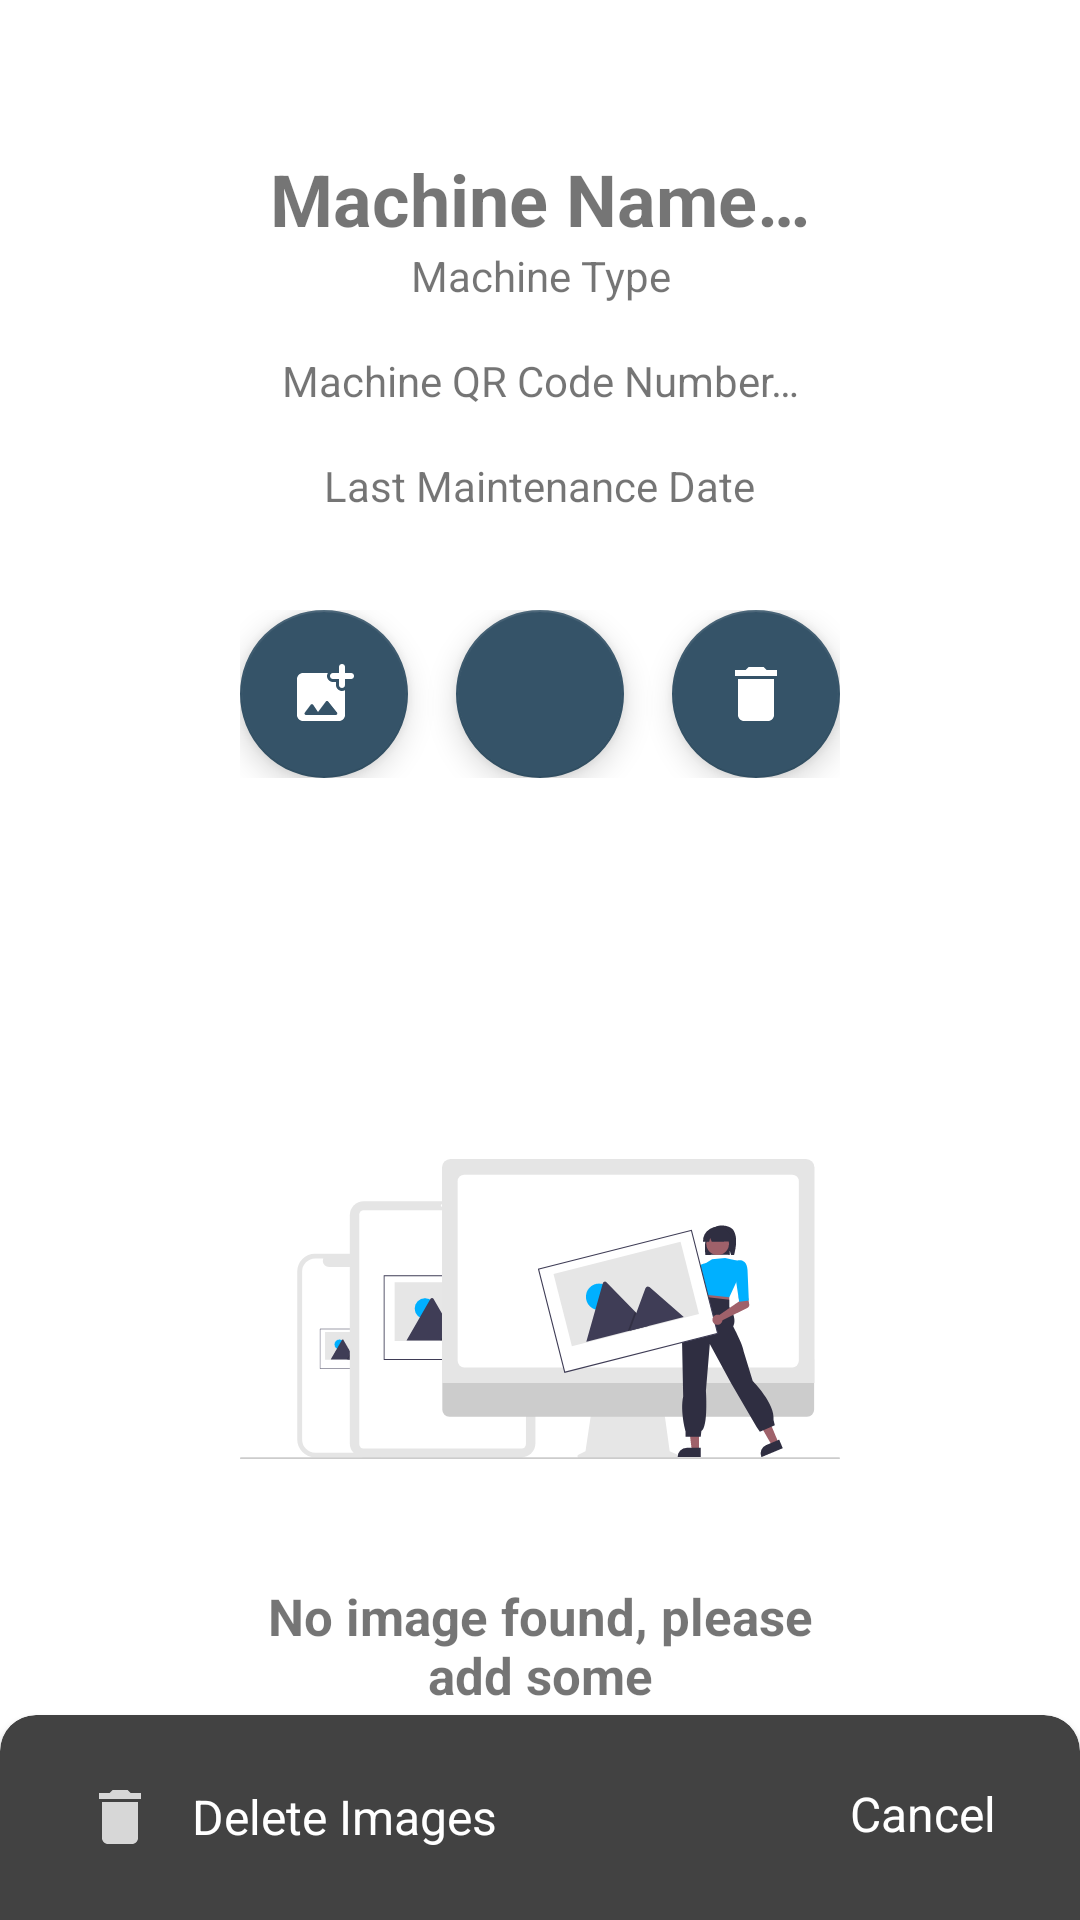

Where to tap for icons on this 1080x1920 app screen, as (x=x, y=y):
add photo alternate: (x=324, y=694)
